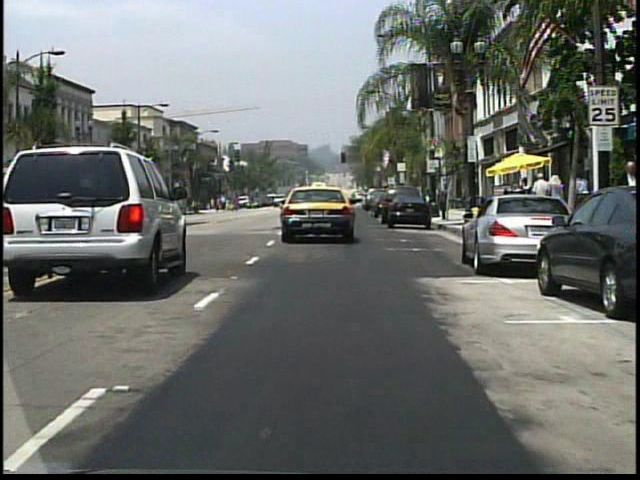person: (612, 158, 637, 243), (531, 172, 552, 225), (570, 172, 590, 227), (545, 173, 565, 225), (517, 176, 533, 218), (250, 192, 258, 208)
